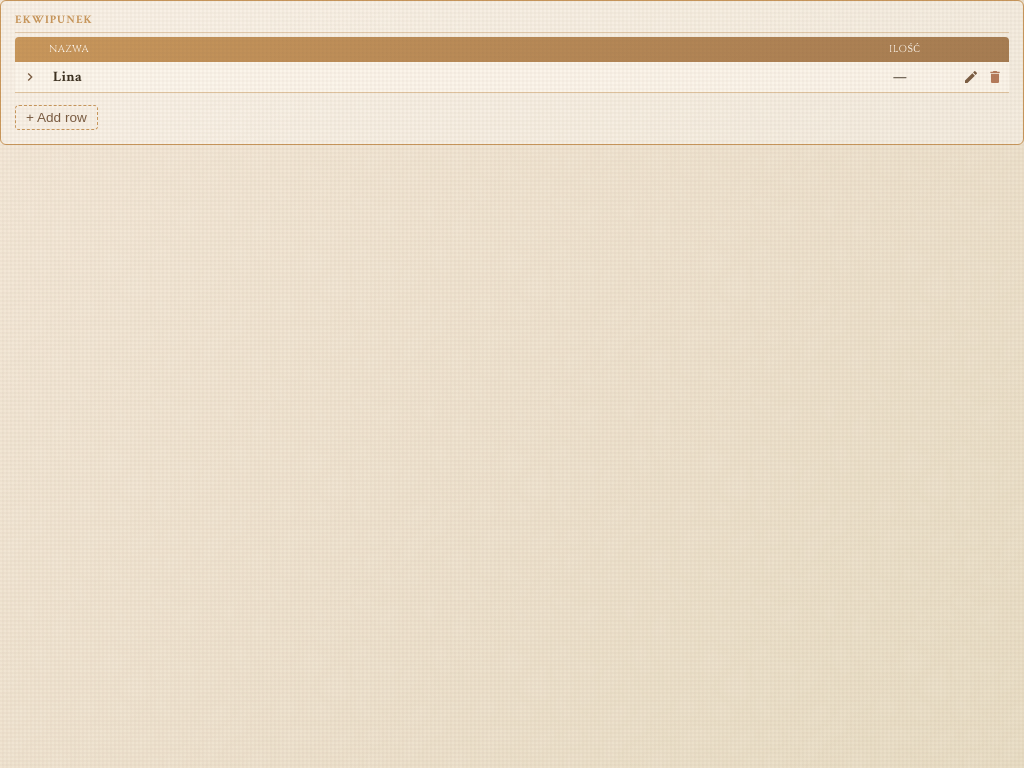
Scenario: data_table — details panel › toggles the description open and closed
Click the button titled "Show details".
click(30, 77)  # box [19,66,41,88]
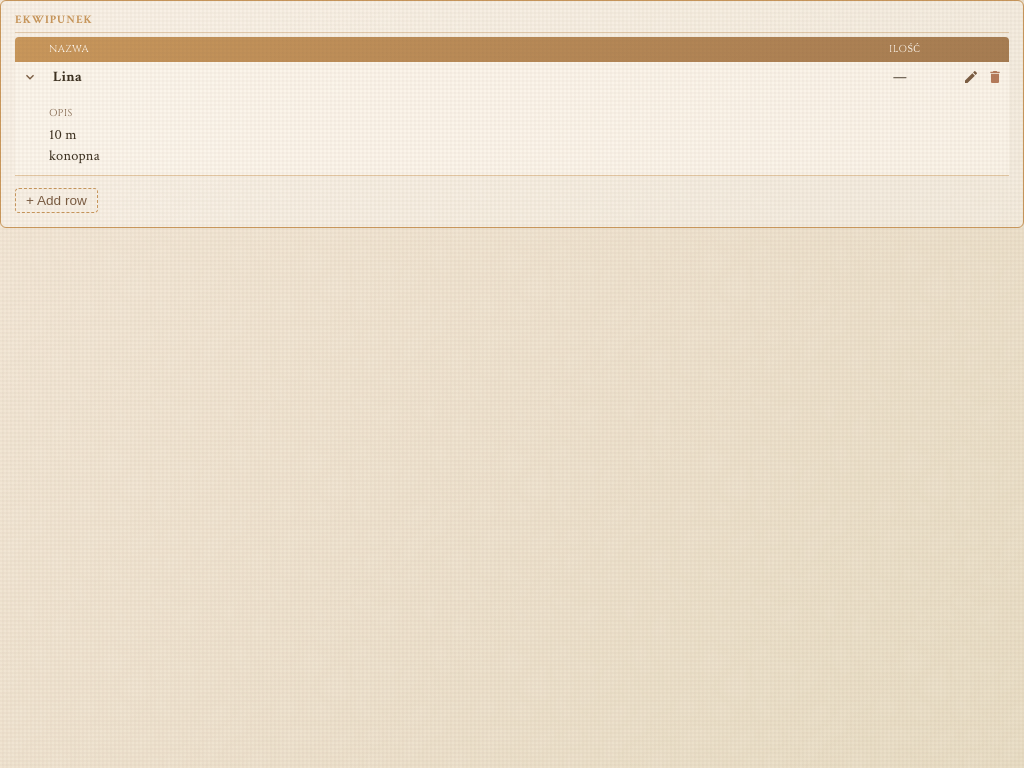
Click the button titled "Hide details".
click(30, 77)  # box [19,66,41,88]
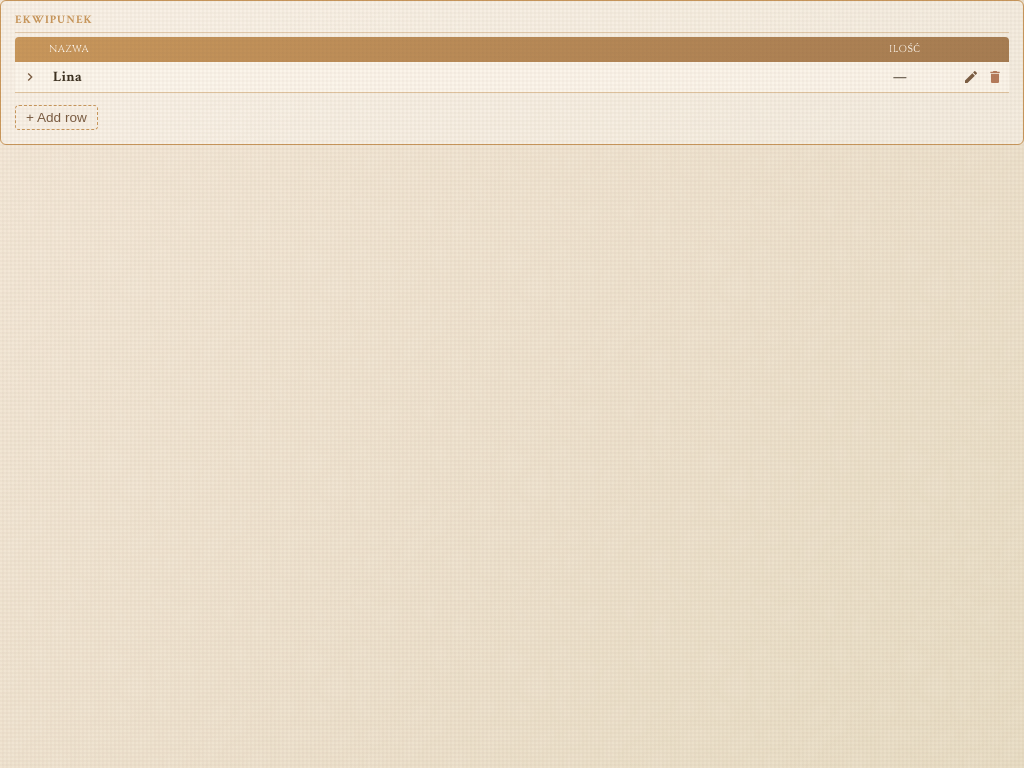
Expected: the element with class "custom-sheet__row-table-details" is gone
